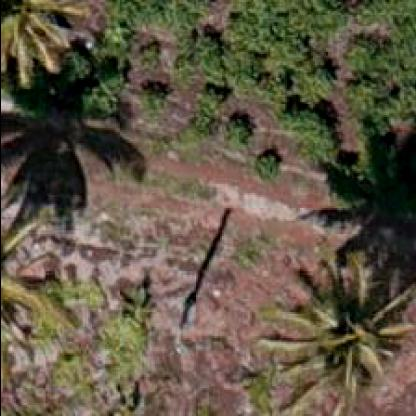coconut tree: (247, 242, 414, 416), (1, 2, 93, 92)
